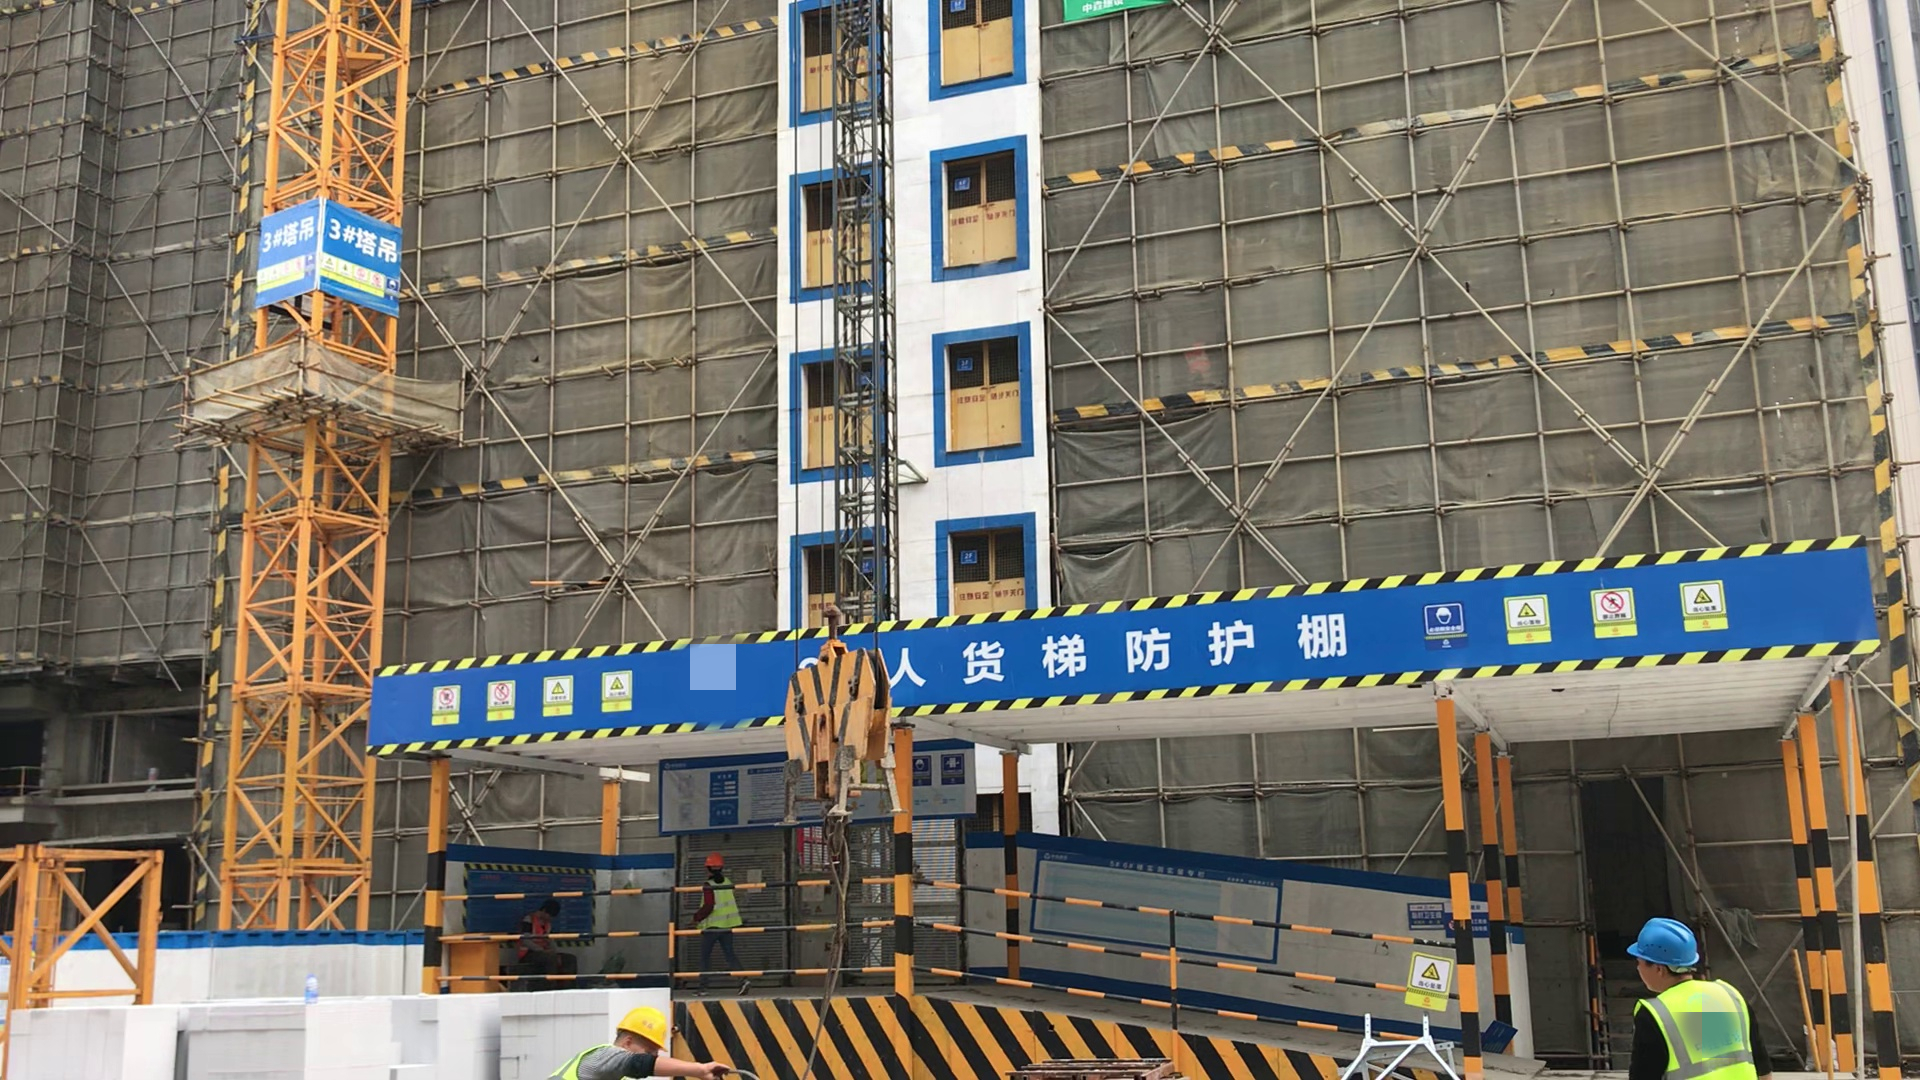brick: (5, 1002, 489, 1080), (498, 983, 667, 1066)
ebox: (446, 940, 497, 997)
helmet: (1627, 917, 1707, 969), (619, 1005, 673, 1052), (700, 851, 730, 868)
hook: (781, 600, 891, 850)
person: (1619, 911, 1780, 1080), (547, 1007, 733, 1080), (690, 849, 753, 999), (519, 895, 579, 979)
slogan: (891, 611, 1347, 690), (1417, 578, 1727, 649), (253, 204, 405, 316), (426, 665, 642, 727), (1405, 949, 1451, 1016)
vest: (1638, 981, 1756, 1080), (552, 1042, 615, 1080), (701, 877, 743, 930), (526, 913, 555, 953)
